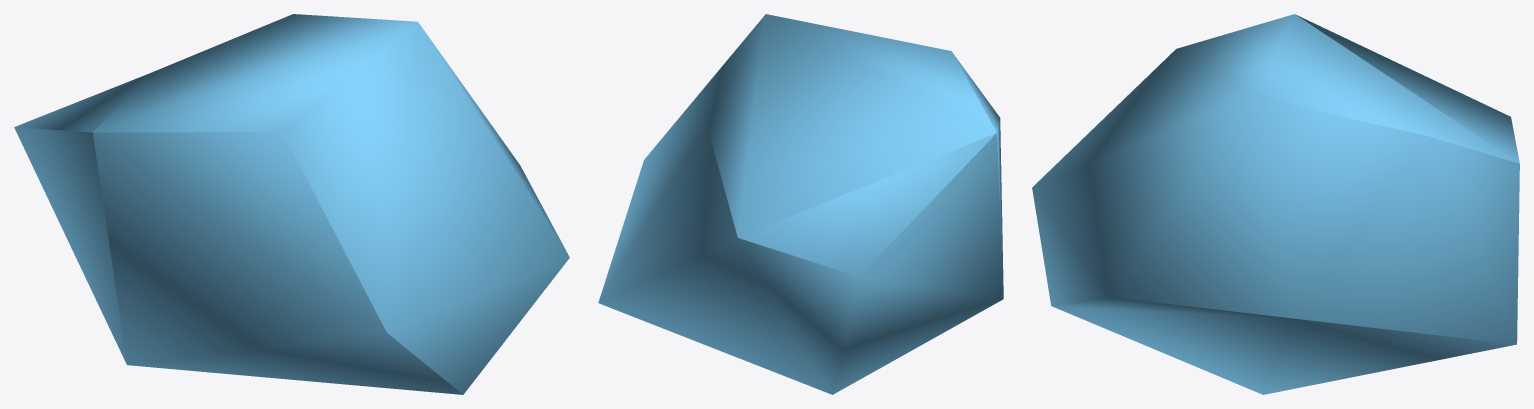
The model's file is PROP_Ice_Rock02.FBX.
3 views of the same model, side by side, from view 1: azimuth 30°, elevation 25°; view 2: azimuth 150°, elevation 25°; view 3: azimuth 270°, elevation 25° (orthographic). The views are drawn at different scales.
Parts seen in each view (by area): view 1: PROP_Ice_Rock02; view 2: PROP_Ice_Rock02; view 3: PROP_Ice_Rock02.
Boxes of the visible parts, left/top/right/bottom form: PROP_Ice_Rock02: left=14, top=14, right=569, bottom=394; PROP_Ice_Rock02: left=598, top=14, right=1003, bottom=394; PROP_Ice_Rock02: left=1032, top=14, right=1519, bottom=394.
Bounding box in the file's own units: 95.45 × 70.86 × 107.
1 material, 1 textured.
